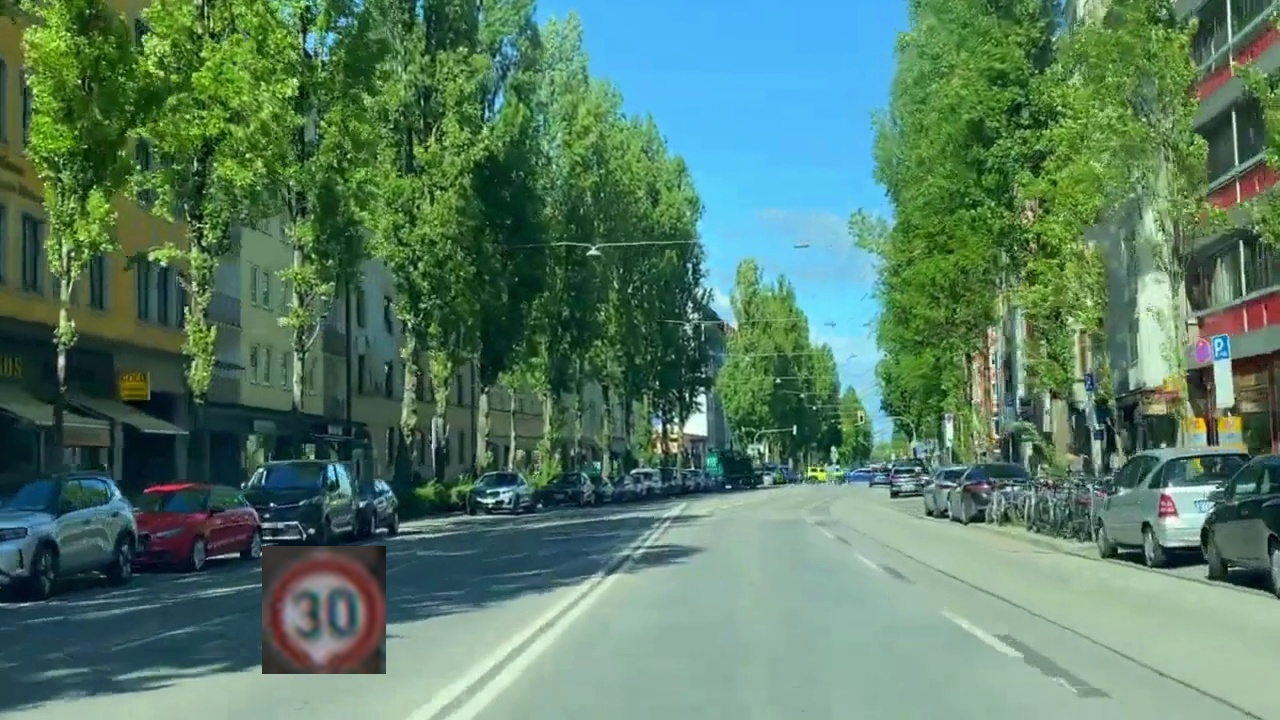Speed 30: (262, 546, 386, 674)
